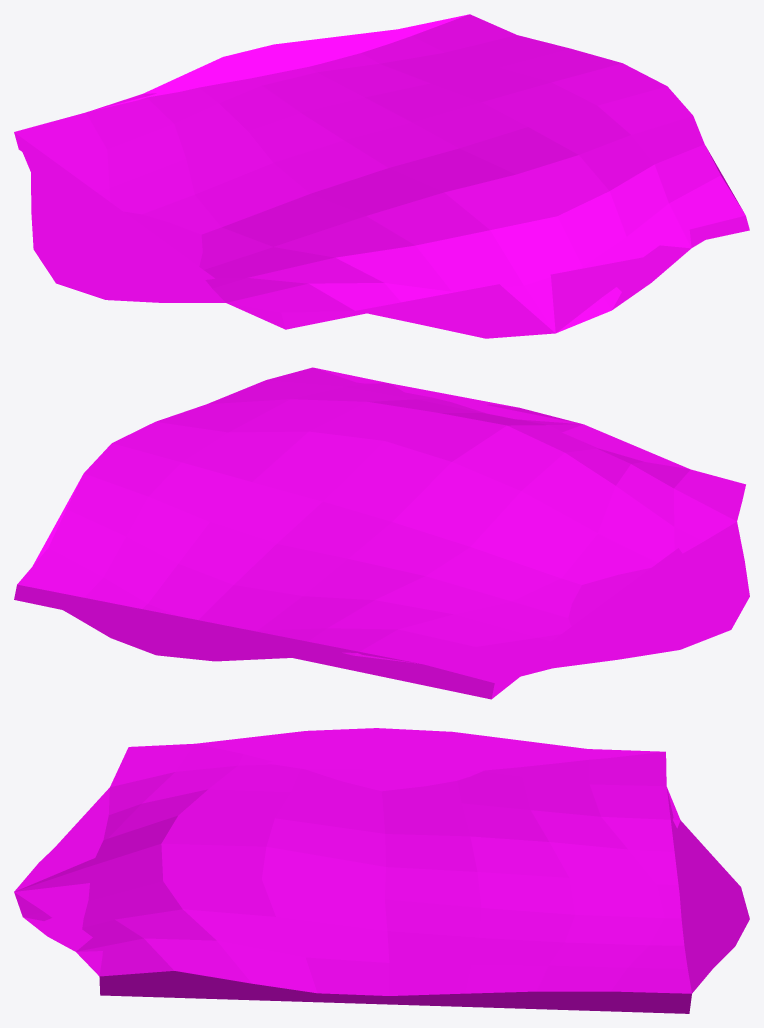
File: BBQ.gltf
3 renders of one model, top to bottom at view 1: azimuth 30°, elevation 25°; view 2: azimuth 150°, elevation 25°; view 3: azimuth 270°, elevation 25°, orthographic. The views are drawn at different scales.
Parts seen in each view (by area): view 1: Plane.001; view 2: Plane.001; view 3: Plane.001.
Boxes of the visible parts, bbox=[...] form: Plane.001: bbox=[14, 14, 749, 338]; Plane.001: bbox=[14, 367, 749, 699]; Plane.001: bbox=[14, 728, 749, 1013].
Bounding box in the file's own units: 2.2 × 0.1751 × 2.2.
